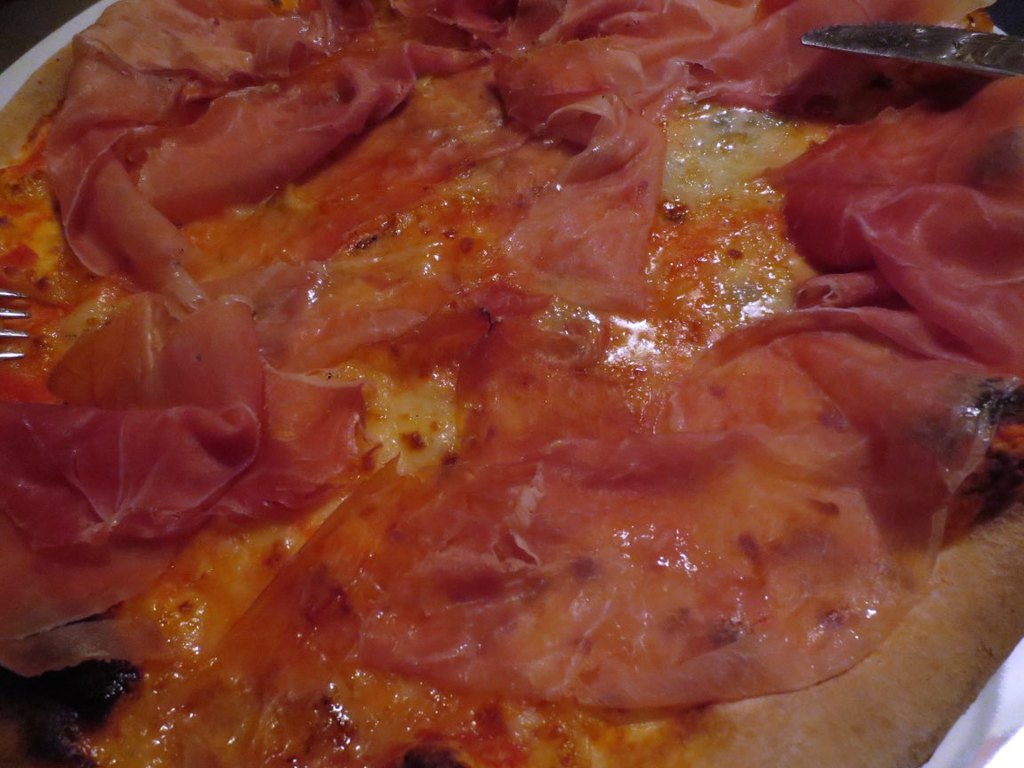Pizza: (0, 0, 1024, 752)
